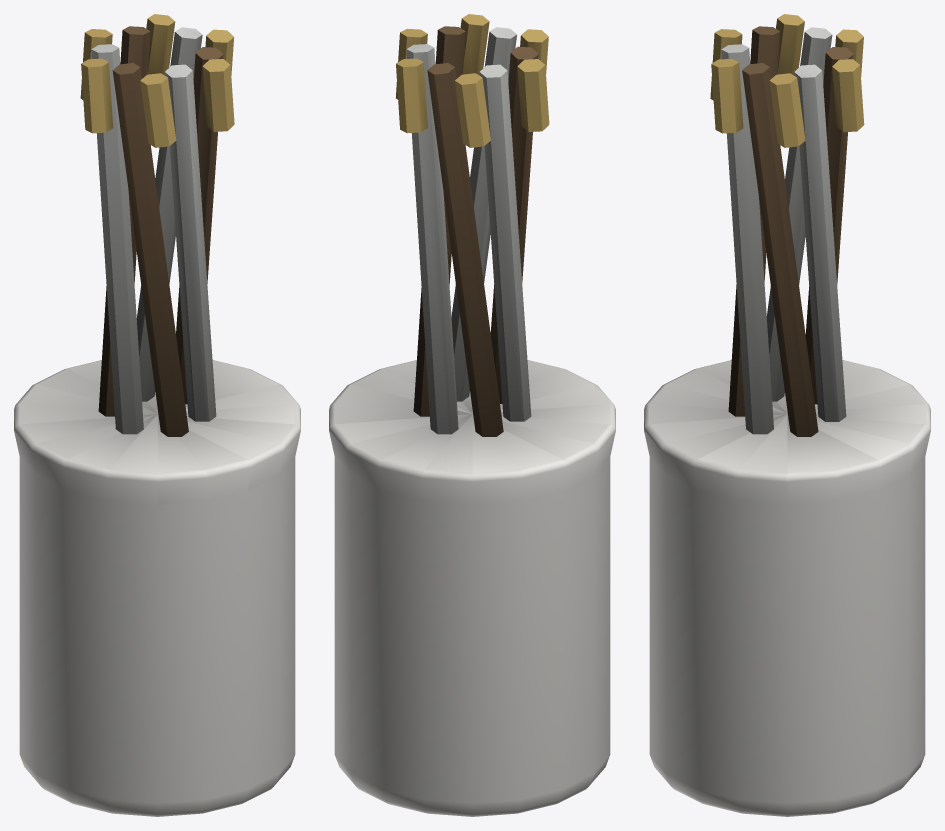
Rendered from pen_cup.glb.
The picture shows the model from 3 angles, left to right: view 1: azimuth 30°, elevation 25°; view 2: azimuth 150°, elevation 25°; view 3: azimuth 270°, elevation 25°; orthographic projection.
Visible parts, largest first — view 1: pen_cup; view 2: pen_cup; view 3: pen_cup.
Boxes of the visible parts, x1,y1,x2,y2 form: pen_cup: [14, 14, 300, 816]; pen_cup: [329, 14, 615, 816]; pen_cup: [644, 14, 930, 816].
Bounding box in the file's own units: 0.0832 × 0.2254 × 0.082.
